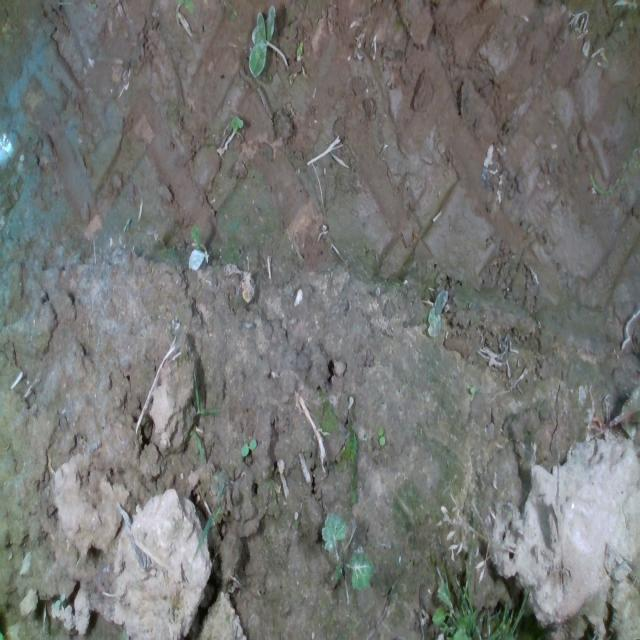weed: (240, 436, 256, 456), (377, 424, 385, 446)
